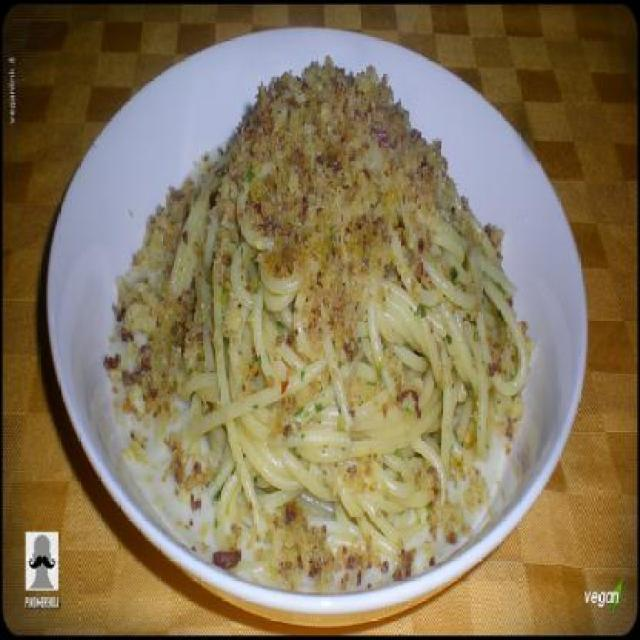Oil pasta: (108, 47, 544, 598)
